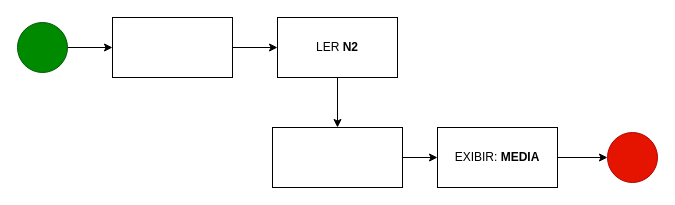
Image size: 675x205. Some labels were removed from this diagram. The centre of each missing label's shape, as x and y in pixels:
LER N1: the point at 172,47
MEDIA: ( N1 + N2 ) / 2: the point at 337,157
